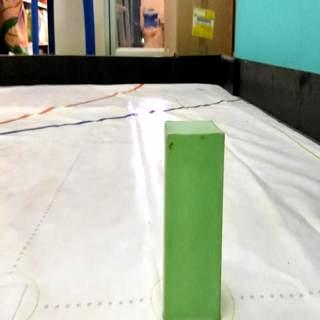greenbox: (162, 117, 226, 320)
